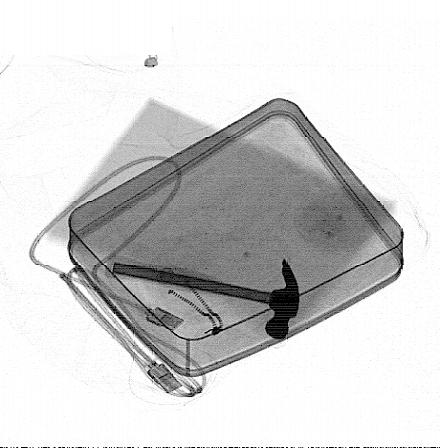Hammer: (105, 254, 299, 340)
